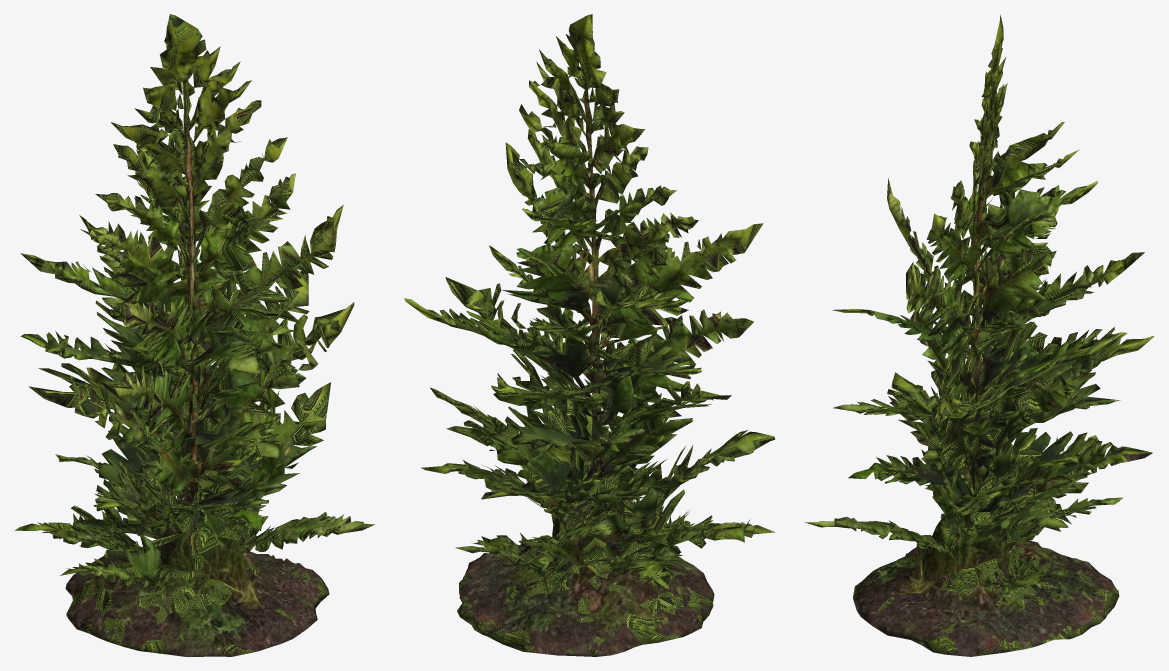
The model's file is A_majestic_forest_fer.glb.
The picture shows the model from 3 angles, left to right: view 1: azimuth 30°, elevation 25°; view 2: azimuth 150°, elevation 25°; view 3: azimuth 270°, elevation 25°; orthographic projection. The views are drawn at different scales.
Visible parts, largest first — view 1: A_majestic_forest_fer; view 2: A_majestic_forest_fer; view 3: A_majestic_forest_fer.
Part boxes in pixels (x1=…): A_majestic_forest_fer: x1=15, y1=14, x2=374, y2=656; A_majestic_forest_fer: x1=404, y1=14, x2=775, y2=656; A_majestic_forest_fer: x1=805, y1=14, x2=1154, y2=656.
Bounding box in the file's own units: 1.08 × 1.9 × 1.05.
1 material, 1 textured.
